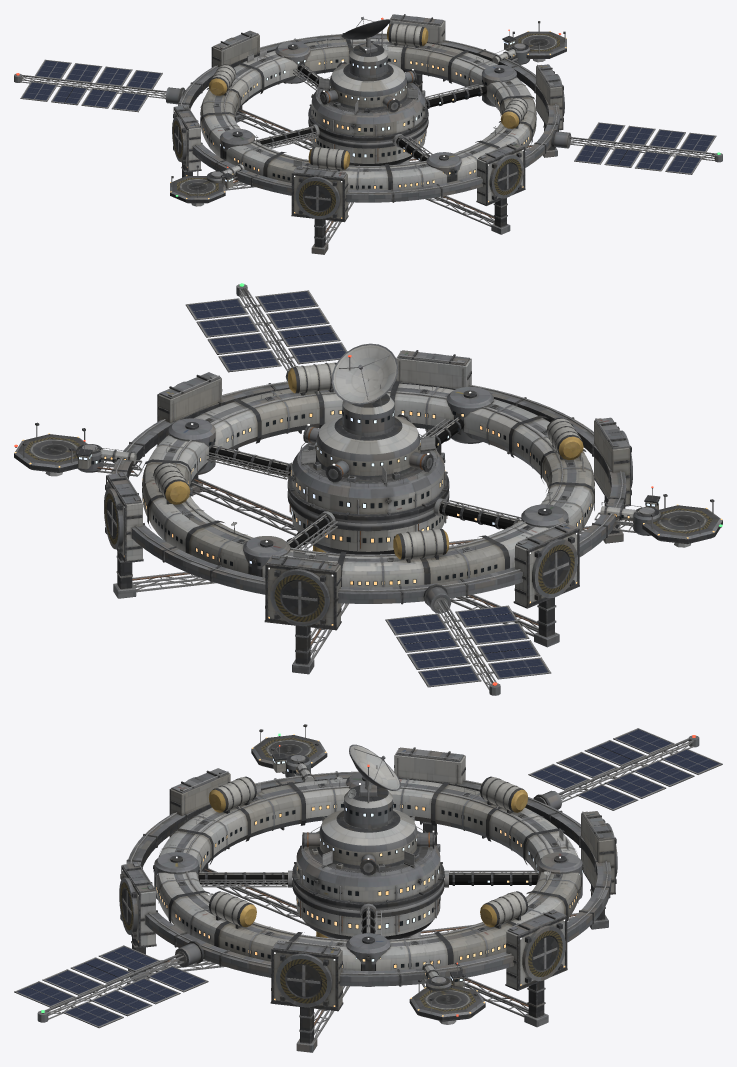
The model's file is station_home.glb.
The picture shows the model from 3 angles, top to bottom: view 1: azimuth 30°, elevation 25°; view 2: azimuth 150°, elevation 25°; view 3: azimuth 270°, elevation 25°; orthographic projection. The views are drawn at different scales.
Parts seen in each view (by area): view 1: station_ring, station_bays, station_core, station_solar, station_docks; view 2: station_ring, station_bays, station_core, station_solar, station_docks; view 3: station_ring, station_bays, station_core, station_solar, station_docks.
Part boxes in pixels (x1,y1,x2,y2): station_ring: [200, 23, 536, 190]; station_bays: [172, 14, 564, 254]; station_core: [308, 16, 428, 165]; station_solar: [14, 59, 722, 174]; station_docks: [170, 21, 566, 206]; station_ring: [142, 362, 594, 587]; station_bays: [104, 350, 632, 674]; station_core: [287, 343, 449, 554]; station_solar: [185, 283, 551, 695]; station_docks: [14, 422, 722, 547]; station_ring: [153, 772, 583, 986]; station_bays: [119, 747, 617, 1052]; station_core: [292, 744, 444, 939]; station_solar: [14, 728, 722, 1028]; station_docks: [251, 724, 485, 1024].
Size of the model in its own units: 133 by 45.89 by 133.
10 materials, 2 textured.
